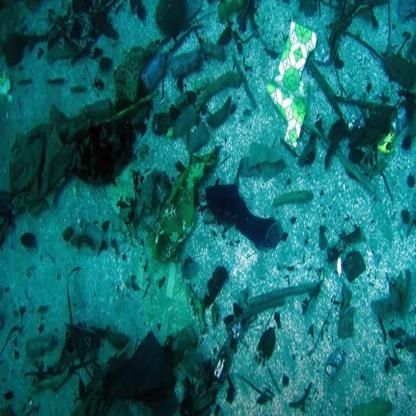plastic: (126, 144, 216, 269), (266, 23, 332, 156)
